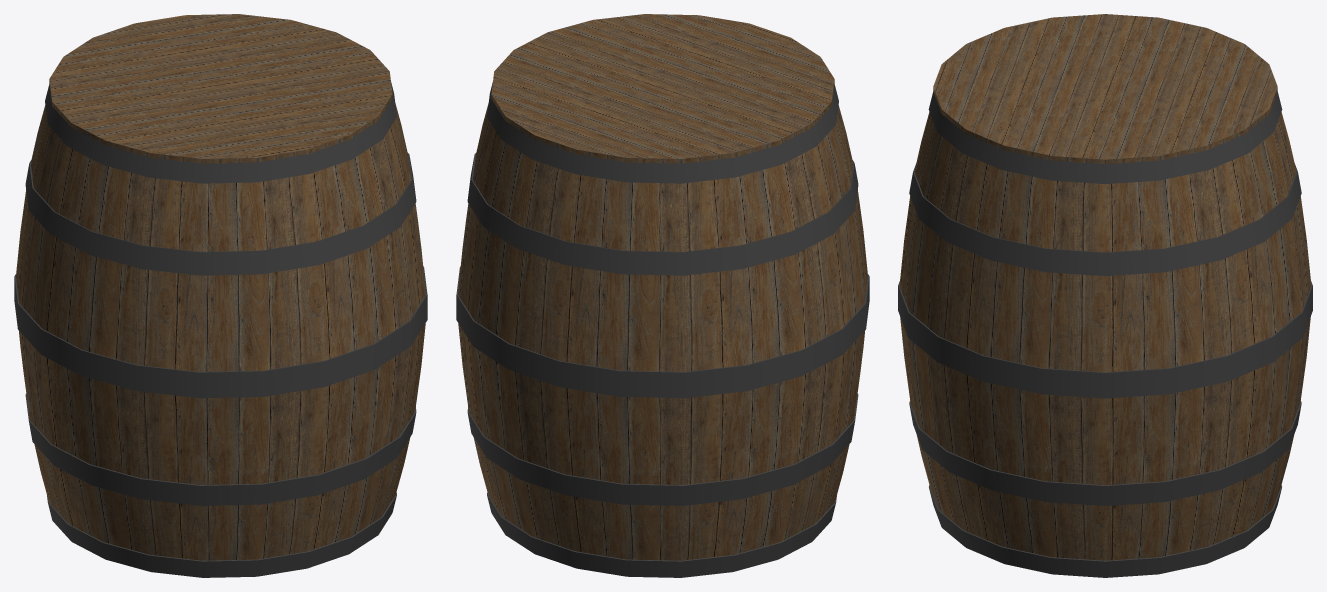
The model's file is Barrel.fbx.
3 renders of one model, left to right at view 1: azimuth 30°, elevation 25°; view 2: azimuth 150°, elevation 25°; view 3: azimuth 270°, elevation 25°, orthographic.
Parts seen in each view (by area): view 1: Barrel, Lid; view 2: Barrel, Lid; view 3: Barrel, Lid.
Part boxes in pixels (x1,y1,x2,y2): Barrel: [14, 82, 427, 577]; Lid: [49, 14, 392, 163]; Barrel: [456, 82, 869, 577]; Lid: [491, 14, 834, 163]; Barrel: [898, 92, 1312, 577]; Lid: [933, 14, 1277, 164].
Size of the model in its own units: 16.26 by 18.1 by 16.26.
2 materials, 1 textured.
